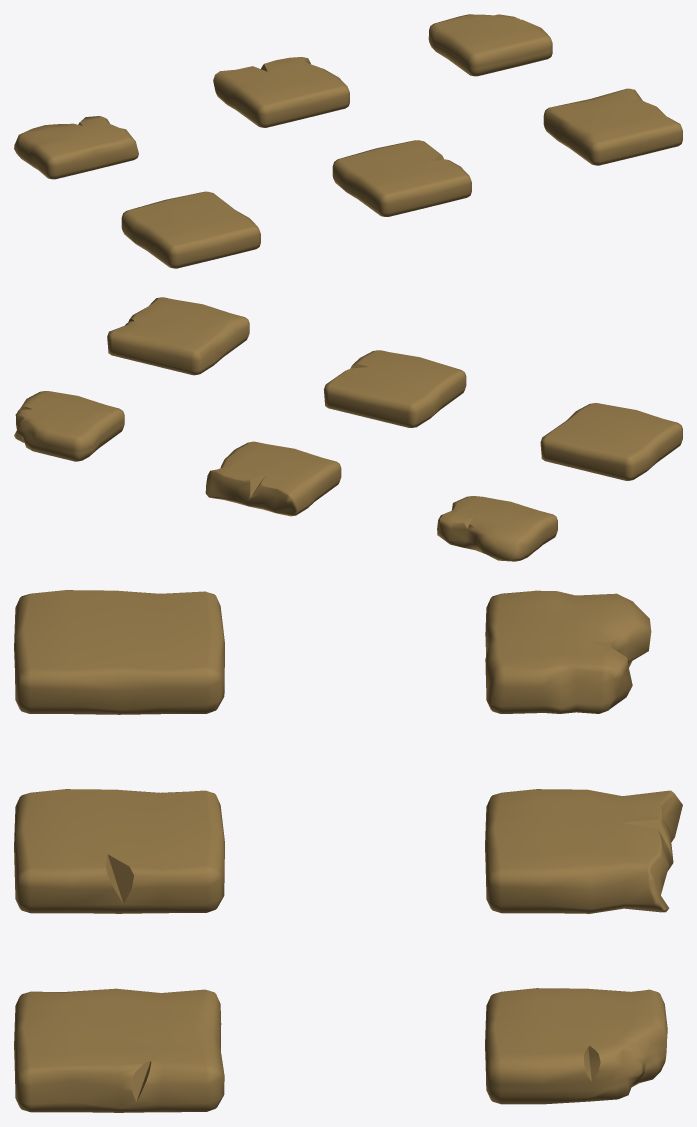
The model's file is Sandstone_Slab_Meshes.fbx.
3 views of the same model, one above another, from view 1: azimuth 30°, elevation 25°; view 2: azimuth 150°, elevation 25°; view 3: azimuth 270°, elevation 25° (orthographic). The views are drawn at different scales.
Visible parts, largest first — view 1: polySurface1496, polySurface1501, polySurface1499, polySurface1498, polySurface1500, polySurface1497; view 2: polySurface1496, polySurface1501, polySurface1499, polySurface1498, polySurface1500, polySurface1497; view 3: polySurface1501, polySurface1496, polySurface1499, polySurface1498, polySurface1500, polySurface1497.
Part boxes in pixels (x1,y1,x2,y2): polySurface1496: (121, 191, 260, 268); polySurface1501: (332, 140, 471, 216); polySurface1499: (543, 88, 682, 165); polySurface1498: (213, 57, 349, 127); polySurface1500: (428, 14, 552, 76); polySurface1497: (14, 116, 138, 179); polySurface1496: (540, 403, 682, 480); polySurface1501: (324, 350, 466, 427); polySurface1499: (107, 297, 249, 375); polySurface1498: (205, 441, 341, 516); polySurface1500: (14, 391, 124, 461); polySurface1497: (437, 496, 557, 561); polySurface1501: (14, 789, 224, 913); polySurface1496: (14, 590, 224, 714); polySurface1499: (14, 988, 224, 1112); polySurface1498: (485, 789, 682, 913); polySurface1500: (485, 988, 667, 1104); polySurface1497: (485, 590, 651, 713).
Bounding box in the file's own units: 81.66 × 3.88 × 47.35.
